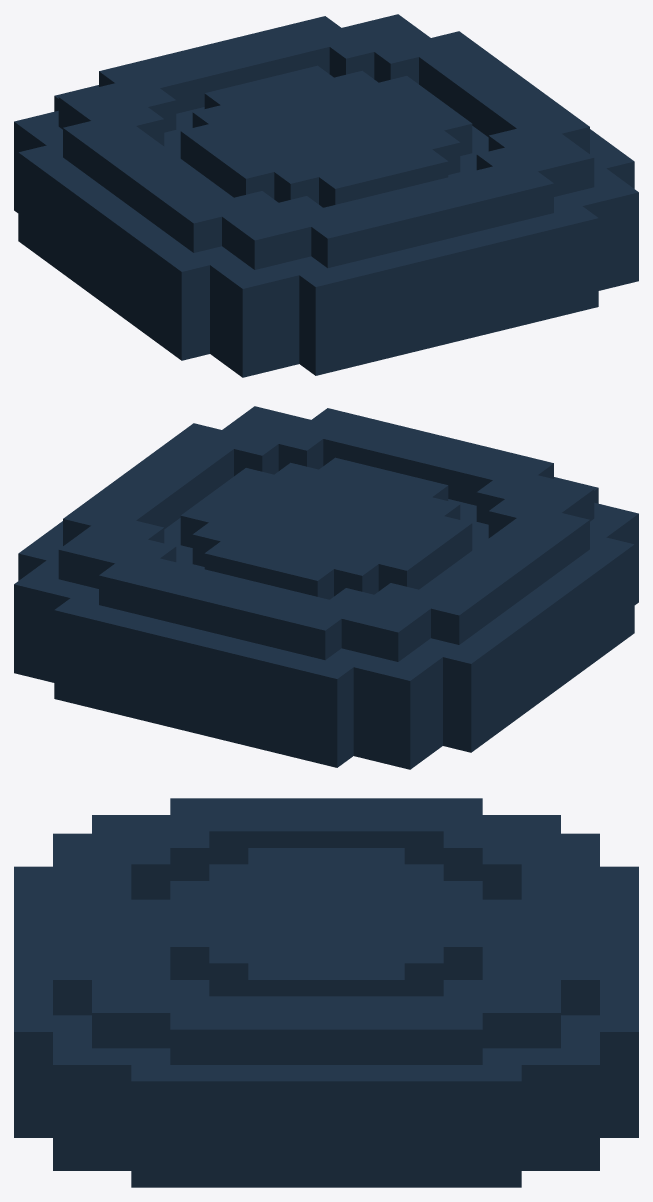
File: man-v2-blue.gltf
3 views of the same model, one above another, from view 1: azimuth 30°, elevation 25°; view 2: azimuth 150°, elevation 25°; view 3: azimuth 270°, elevation 25° (orthographic). The views are drawn at different scales.
Visible parts, largest first — view 1: Untitled; view 2: Untitled; view 3: Untitled.
Part boxes in pixels (<box>): Untitled: <box>14,14,638,377</box>; Untitled: <box>14,406,638,769</box>; Untitled: <box>14,798,638,1187</box>.
Bounding box in the file's own units: 1.6 × 0.4 × 1.6.
1 material, 1 textured.
